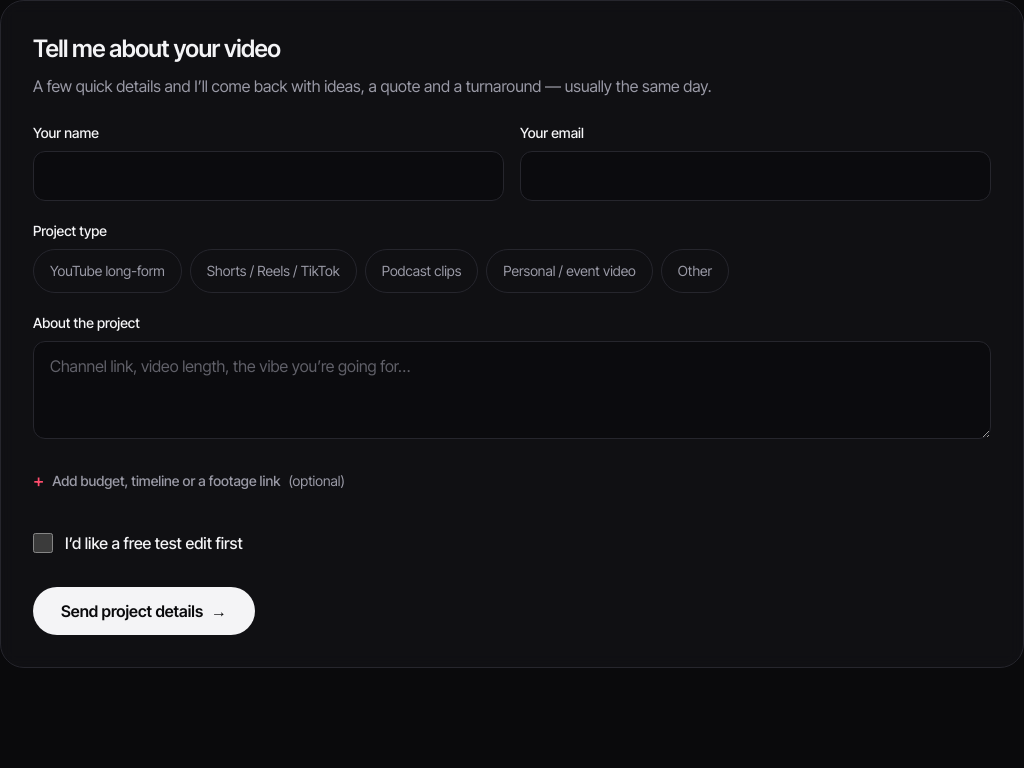
Test case: InquiryForm › keeps the form short: optional details start tucked away and the message box is compact
Click the heading "+ Add budget, timeline or a footage link (optional)".
click(189, 480)  # box [33,470,345,491]
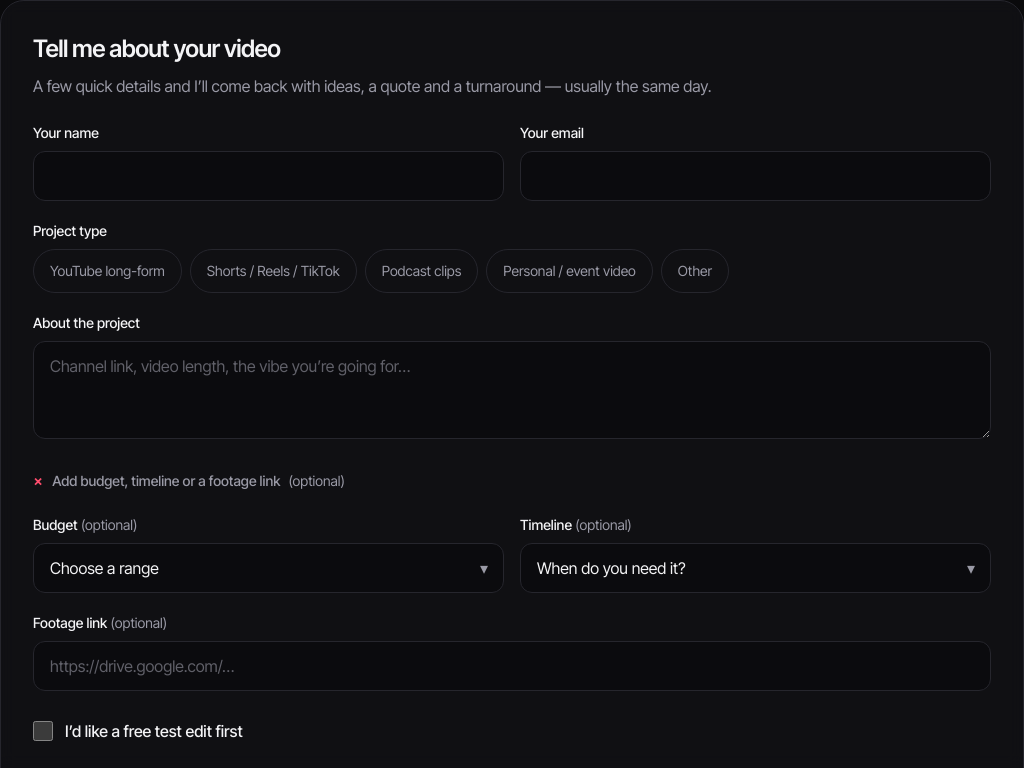
Now the dropdown labelled "Budget (optional)" is shown, box [33,543,504,593]
Now the dropdown labelled "Timeline (optional)" is shown, box [520,543,991,593]
Now the field labelled "Footage link (optional)" is shown, box [33,641,991,691]
